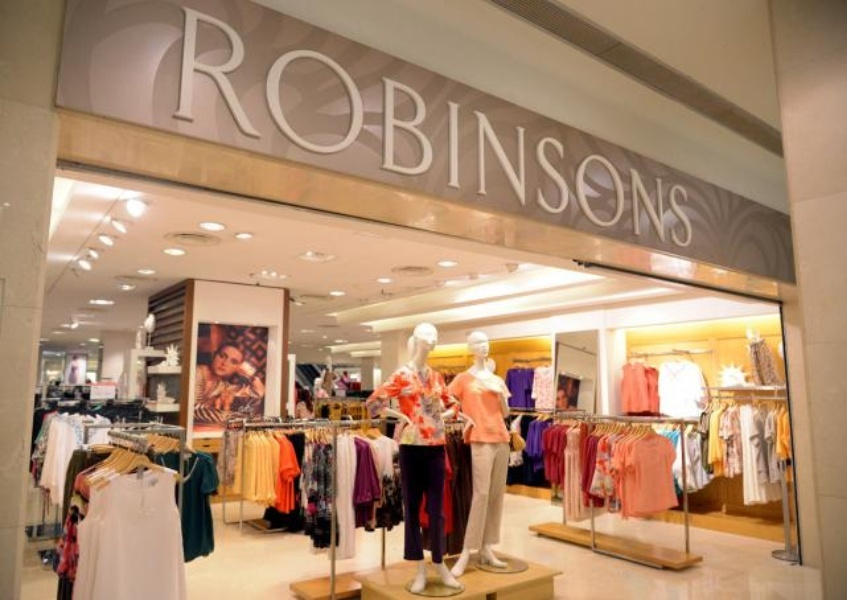text: (193, 1, 208, 253), (209, 1, 224, 253), (225, 1, 240, 253), (241, 1, 256, 253), (257, 1, 272, 253), (273, 1, 288, 253), (289, 1, 304, 253), (305, 1, 320, 253), (321, 1, 336, 253), (337, 1, 352, 253), (353, 1, 368, 253), (369, 1, 384, 253), (385, 1, 400, 253), (401, 1, 416, 253), (417, 1, 432, 253), (433, 1, 448, 253), (449, 1, 464, 253), (465, 1, 480, 253), (481, 1, 496, 253), (497, 1, 512, 253), (513, 1, 528, 253), (529, 1, 544, 253), (545, 1, 560, 253), (561, 1, 576, 253), (577, 1, 592, 253), (593, 1, 608, 253), (609, 1, 624, 253), (625, 1, 640, 253), (641, 1, 656, 253), (657, 1, 672, 253), (673, 1, 688, 253), (180, 1, 192, 253), (689, 1, 698, 253)
